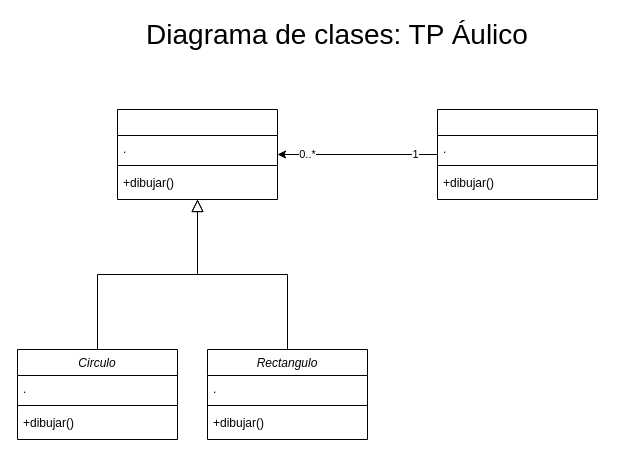
Image size: 625x457. Some labels were removed from this diagram. Here are the shapes that lost their labels. From the top down, the box of each, then its label:
(116, 108, 278, 200): Forma
(436, 108, 598, 200): GrupoForma
